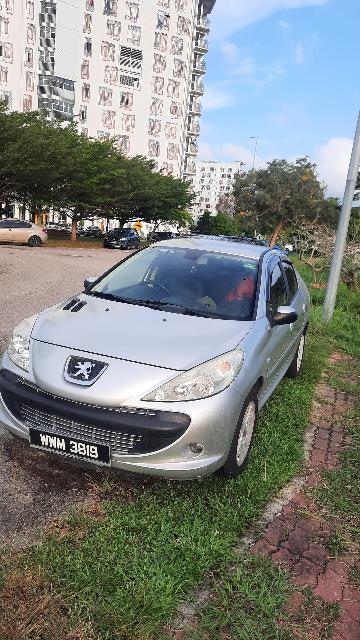License_Plate: (25, 425, 116, 469)
car: (1, 237, 317, 494)
